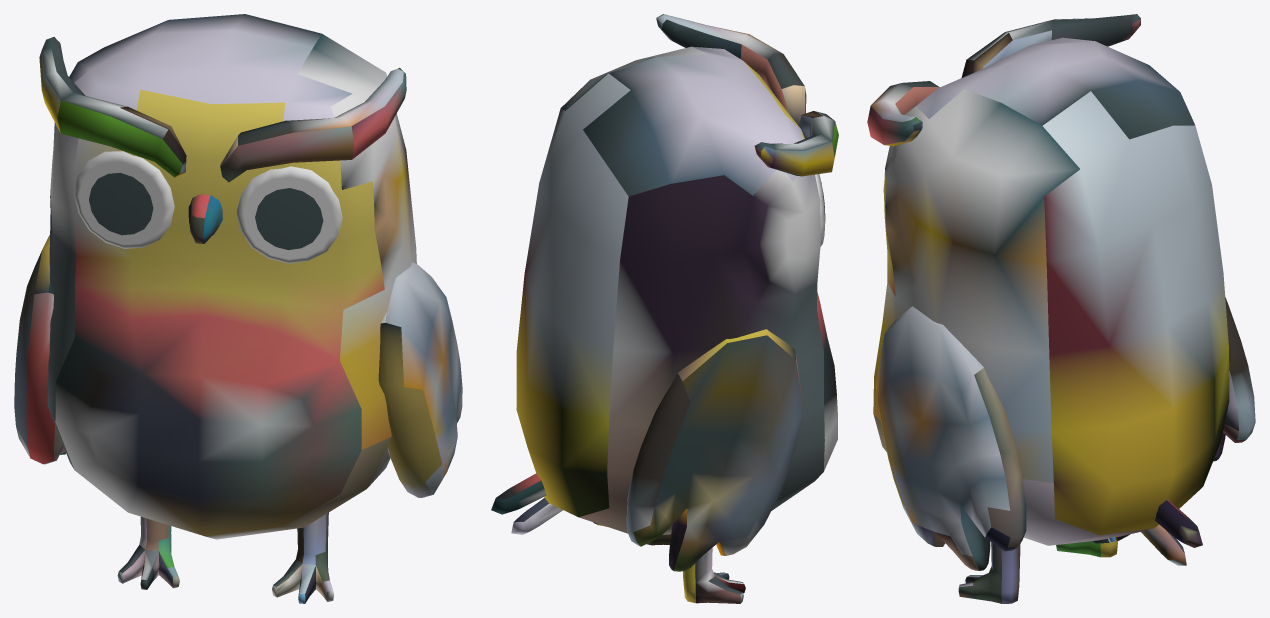
File: Owl.glb
3 views of the same model, side by side, from view 1: azimuth 30°, elevation 25°; view 2: azimuth 150°, elevation 25°; view 3: azimuth 270°, elevation 25° (orthographic). The views are drawn at different scales.
Visible parts, largest first — view 1: 115; view 2: 115; view 3: 115.
Boxes of the visible parts, bbox=[...] form: 115: bbox=[14, 14, 462, 603]; 115: bbox=[491, 14, 838, 603]; 115: bbox=[867, 14, 1255, 603].
Bounding box in the file's own units: 0.5203 × 0.7332 × 0.5109.
